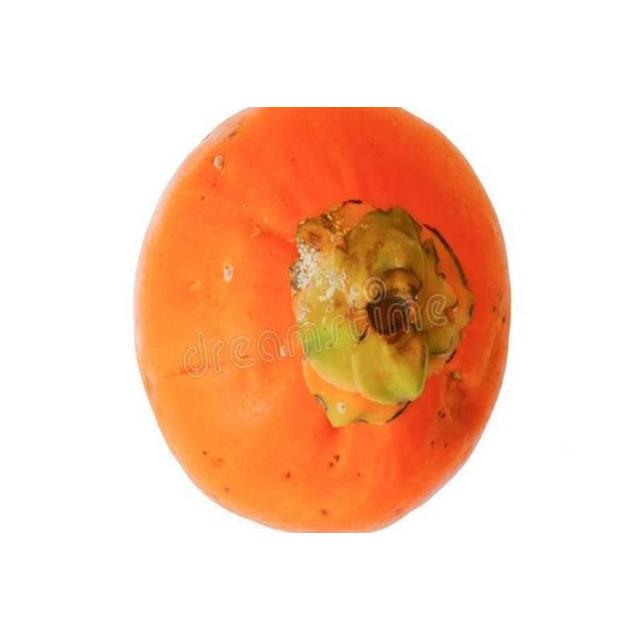good: (132, 107, 514, 533)
